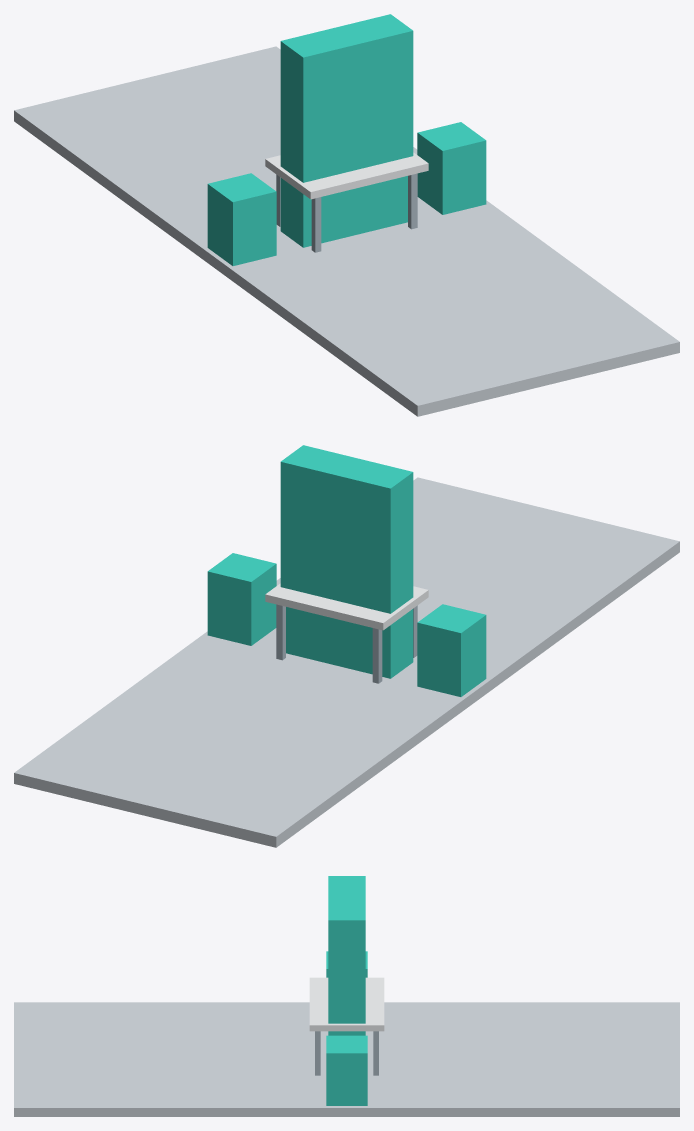
The picture shows the model from 3 angles, top to bottom: view 1: azimuth 30°, elevation 25°; view 2: azimuth 150°, elevation 25°; view 3: azimuth 270°, elevation 25°; orthographic projection. The views are drawn at different scales.
Visible parts, largest first — view 1: Exhibition Booth Concept; view 2: Exhibition Booth Concept; view 3: Exhibition Booth Concept.
Part boxes in pixels (bbox=[...]): Exhibition Booth Concept: bbox=[14, 14, 679, 416]; Exhibition Booth Concept: bbox=[14, 445, 679, 847]; Exhibition Booth Concept: bbox=[14, 876, 679, 1116].
Bounding box in the file's own units: 3 × 2.2 × 8.
